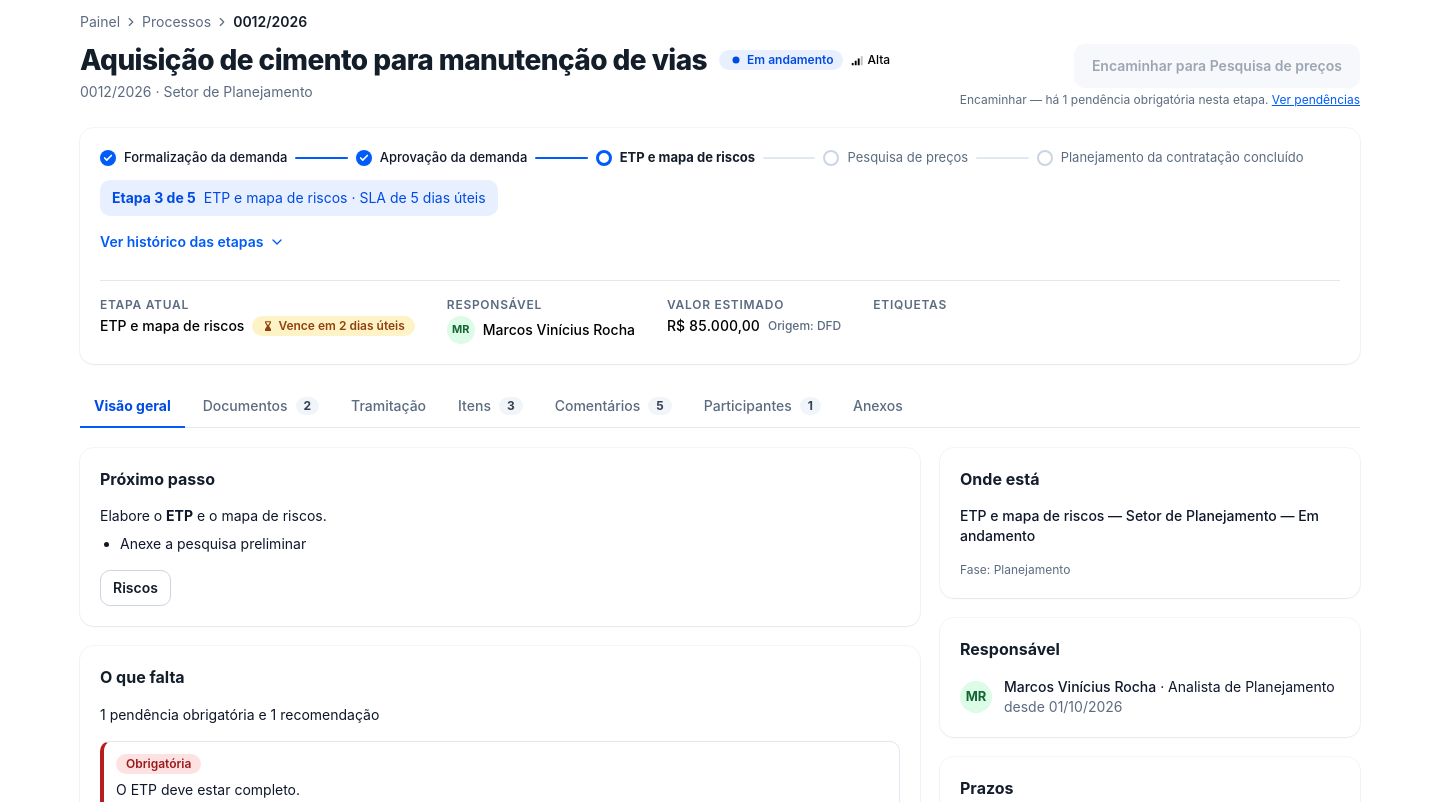
Scenario: SCR-006 · aba "Timeline" (US-060) › painel: "Linha do tempo" na aba Tramitação abre o feed (`?aba=timeline`); setas alternam as abas
The width and height of the screenshot is (1440, 802).
Click the tab "Tramitação" at (389, 406), box [337, 384, 440, 428]
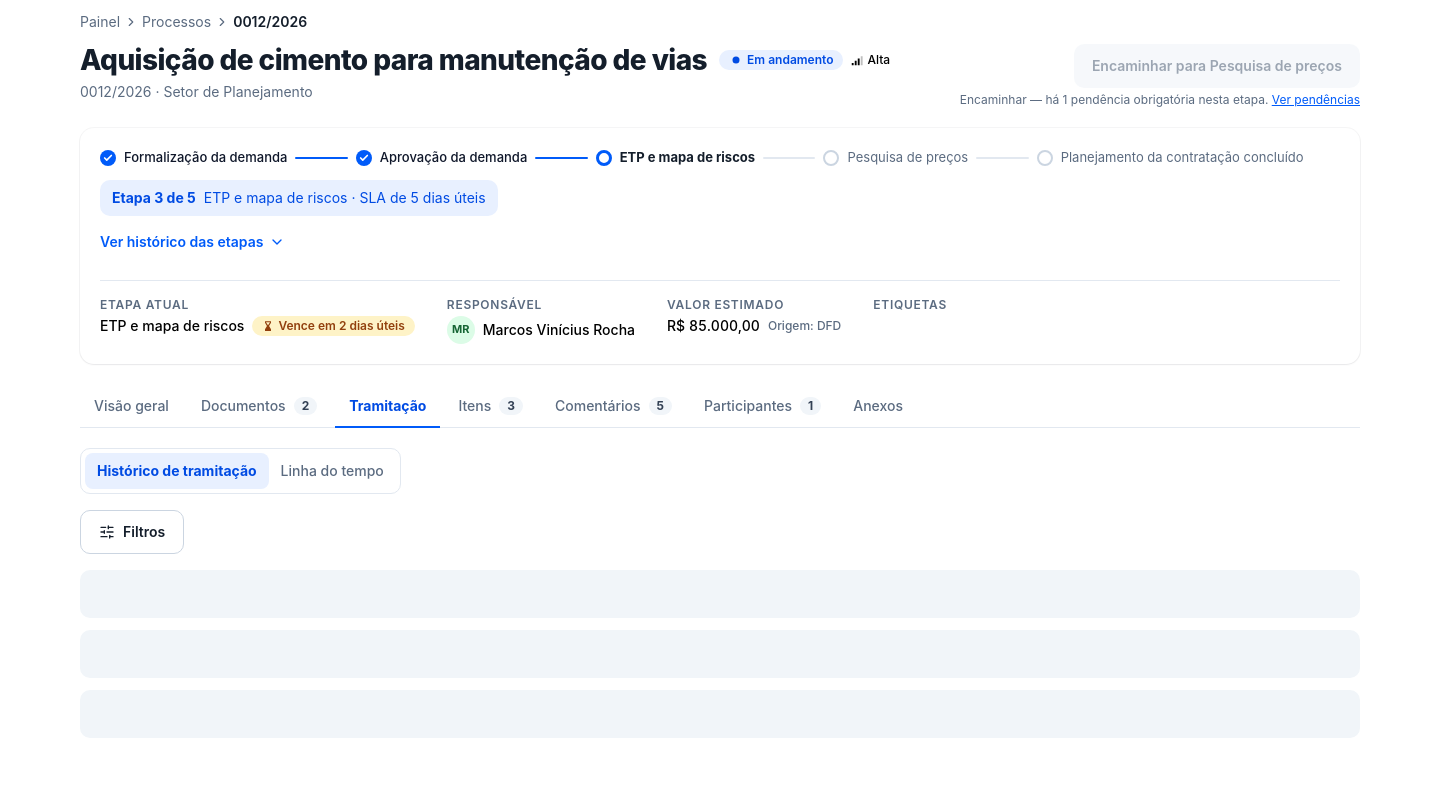
Now the tab "Tramitação" is selected, box [335, 384, 440, 428]
Click the button "Linha do tempo" at (332, 471), box [269, 453, 396, 489]
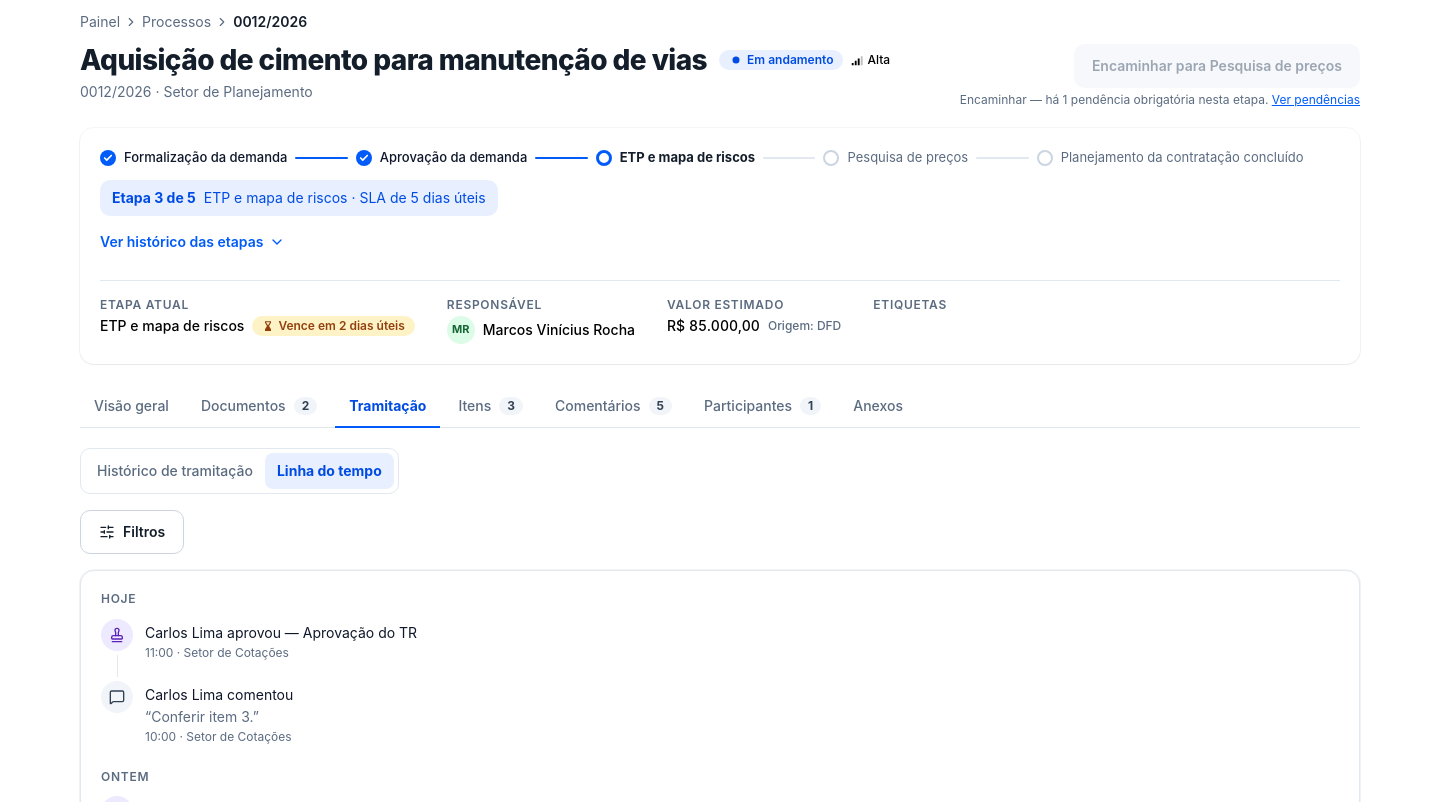
Now the heading "Hoje" is shown, box [101, 591, 136, 606]
Press ArrowLeft in the tab "Tramitação", box [335, 384, 440, 428]
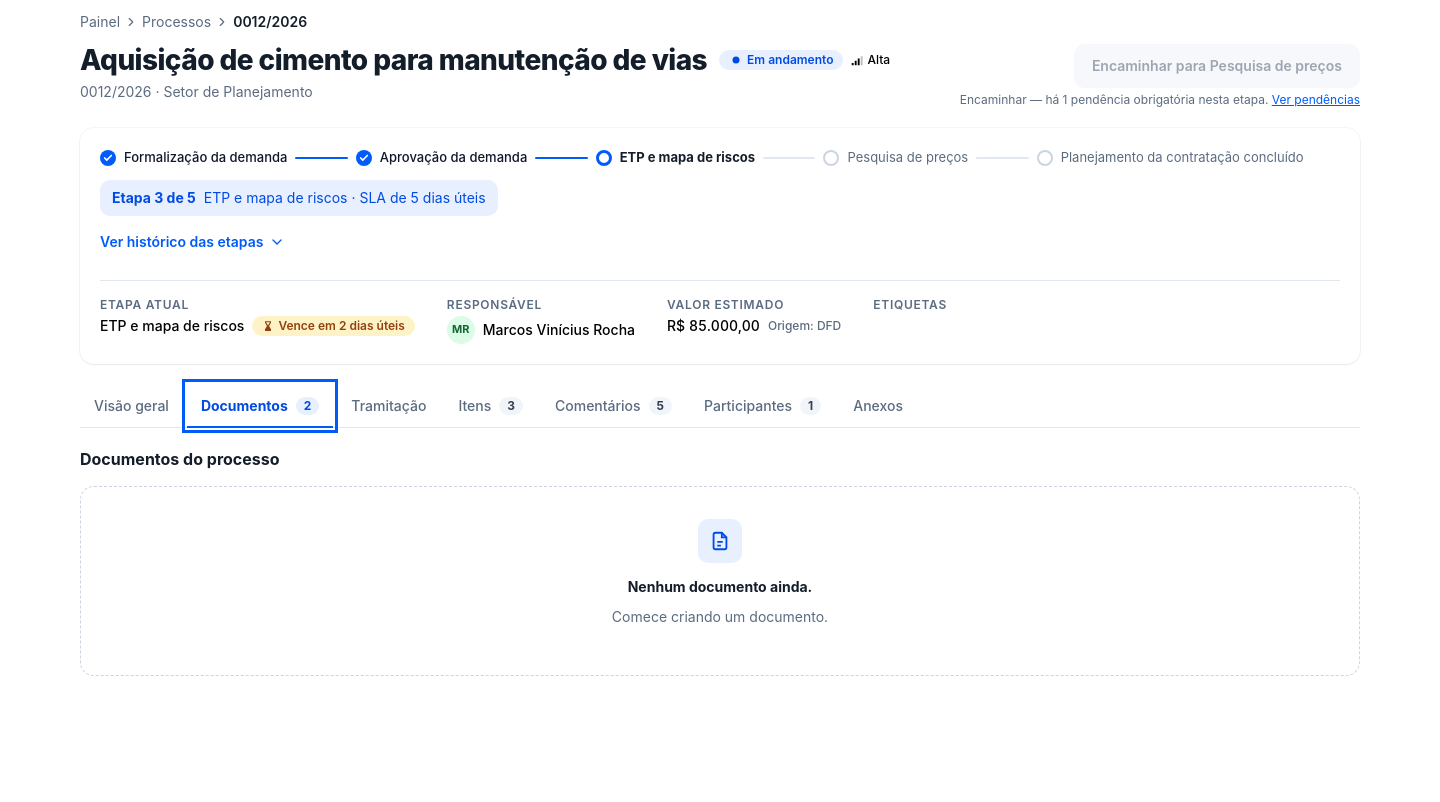
Now the tab "Documentos 2" is selected
Press Home in the tab "Documentos 2", box [187, 384, 333, 428]
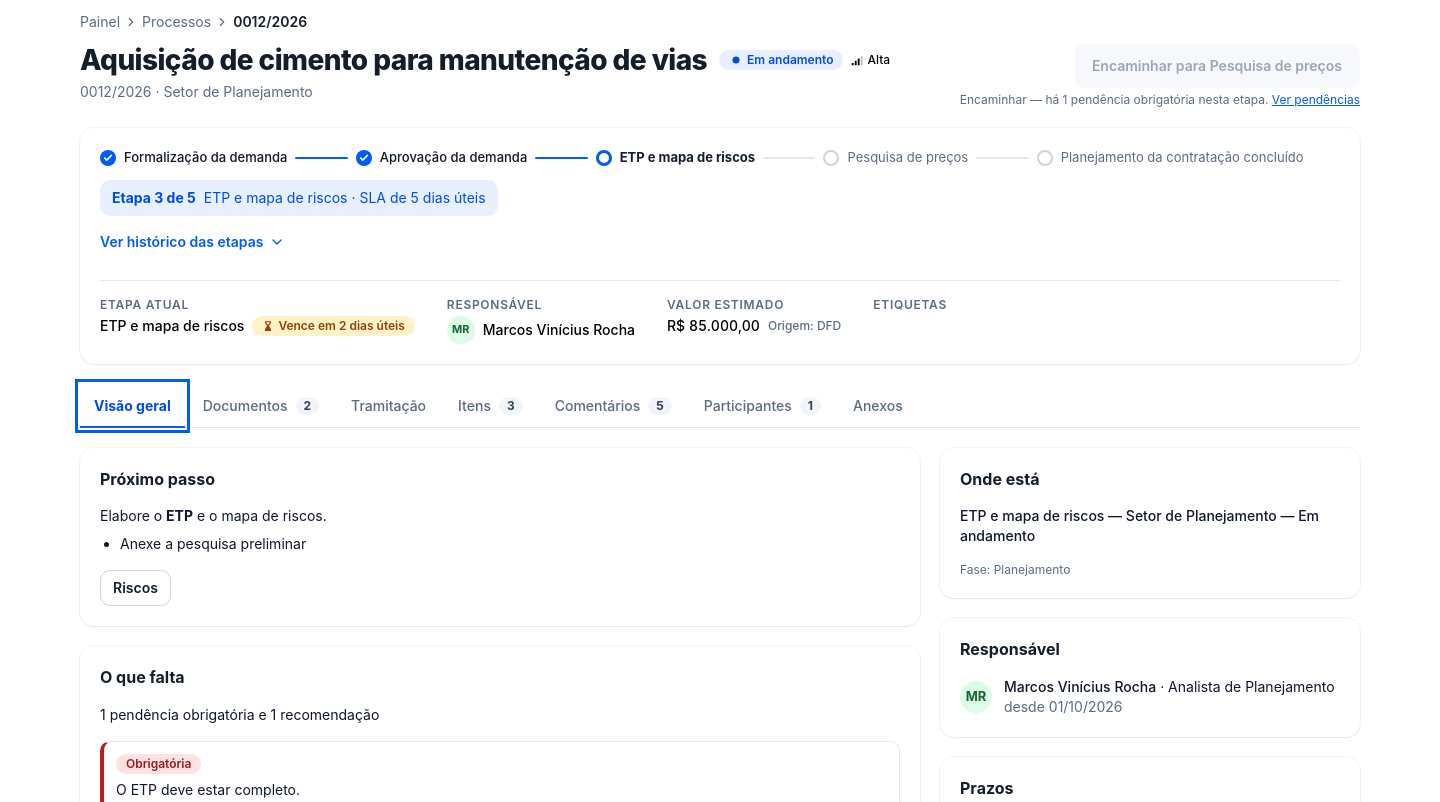
Now the heading "Onde está" is shown, box [960, 468, 1039, 490]
